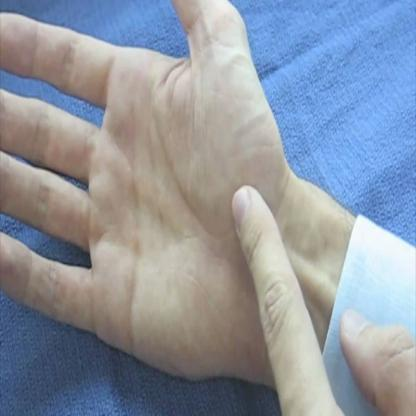palm: (0, 0, 339, 398)
